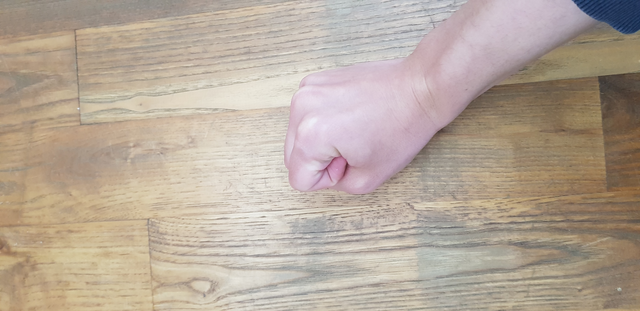Rock: (247, 53, 452, 213)
